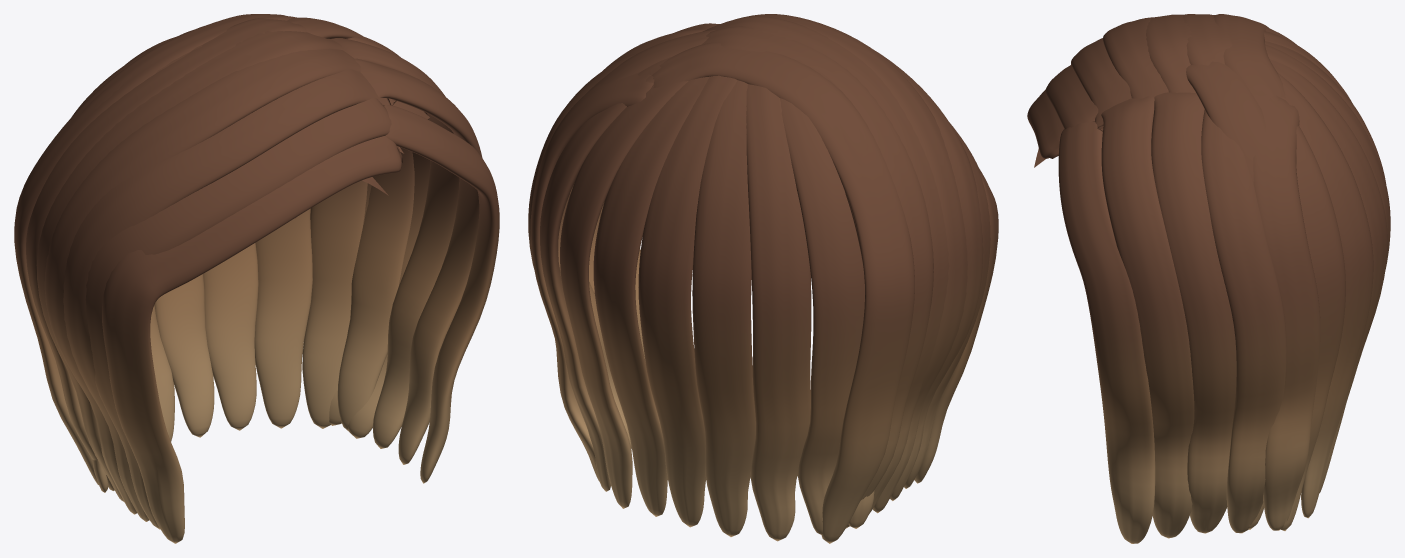
File: Feminine-side-sweep-ears260-hair-ombre.glb
3 views of the same model, side by side, from view 1: azimuth 30°, elevation 25°; view 2: azimuth 150°, elevation 25°; view 3: azimuth 270°, elevation 25° (orthographic). The views are drawn at different scales.
Parts seen in each view (by area): view 1: 226 hair / Hair / sculpted 0.002, 226 hair / Hair / sculpted 1.004, 226 hair / Hair / sculpted 2.002; view 2: 226 hair / Hair / sculpted 0.002, 226 hair / Hair / sculpted 2.002, 226 hair / Hair / sculpted 1.004; view 3: 226 hair / Hair / sculpted 1.004, 226 hair / Hair / sculpted 2.002, 226 hair / Hair / sculpted 0.002.
Part boxes in pixels (x1,y1,x2,y2): 226 hair / Hair / sculpted 0.002: (14,14,459,543); 226 hair / Hair / sculpted 1.004: (36,17,499,529); 226 hair / Hair / sculpted 2.002: (26,17,482,521); 226 hair / Hair / sculpted 0.002: (558,14,998,543); 226 hair / Hair / sculpted 2.002: (530,23,983,534); 226 hair / Hair / sculpted 1.004: (528,16,990,541); 226 hair / Hair / sculpted 1.004: (1045,14,1387,543); 226 hair / Hair / sculpted 2.002: (1071,14,1390,538); 226 hair / Hair / sculpted 0.002: (1027,14,1386,533).
Bounding box in the file's own units: 1.01 × 1.09 × 0.8006.
